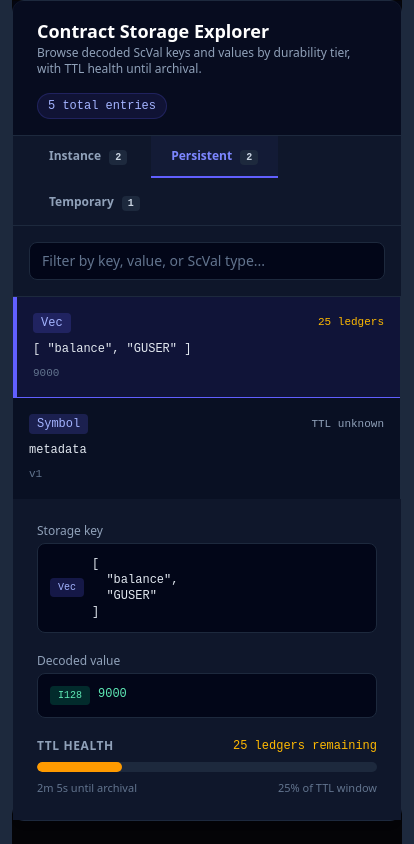
Test: ContractStorageExplorer › renders a null TTL as unknown instead of treating it as expired
The width and height of the screenshot is (414, 844).
Later steps or results of the test are not shown.
Step 1. Click the button with test id "storage-entry-persist-metadata" → (59, 424), box [13,398,400,499]
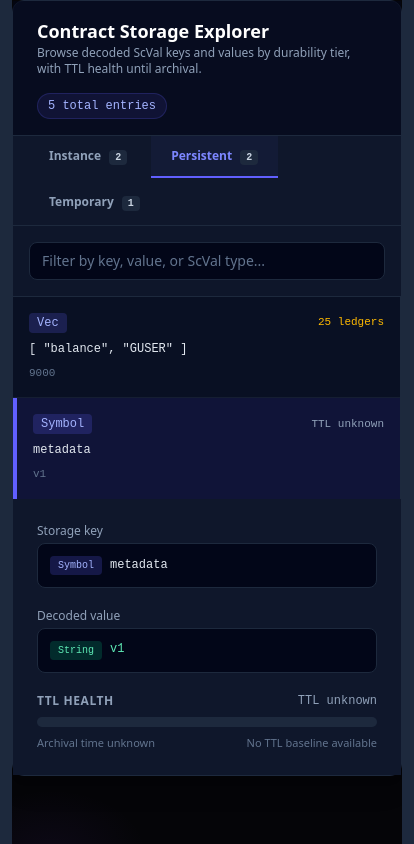
Now the text with test id "ttl-remaining-label" reads "TTL unknown", box [298,694,377,708]
Now the text with test id "ttl-estimate-label" reads "Archival time unknown", box [37,735,155,750]
